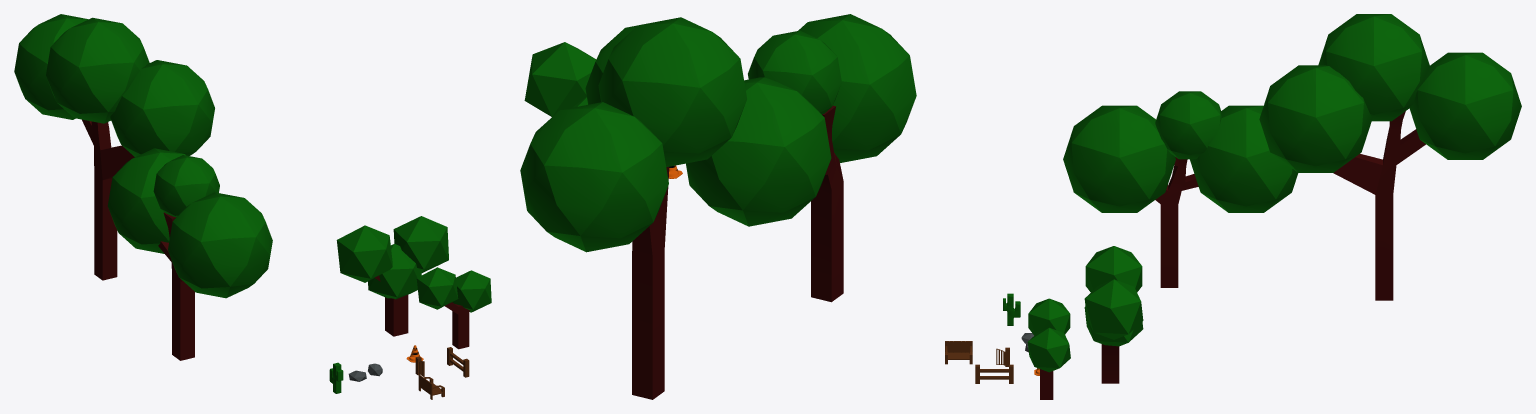
The model's file is objs.fbx.
3 renders of one model, left to right at view 1: azimuth 30°, elevation 25°; view 2: azimuth 150°, elevation 25°; view 3: azimuth 270°, elevation 25°, orthographic. The views are drawn at different scales.
Parts seen in each view (by area): view 1: Arvore_1, Arvore_2, Arbusto_1, Arbusto_2; view 2: Arvore_1, Arvore_2, Arbusto_1; view 3: Arvore_1, Arvore_2, Arbusto_1, Arbusto_2, Cube.003.
Boxes of the visible parts, x1,y1,x2,y2 form: Arvore_1: [14, 14, 214, 280]; Arvore_2: [107, 148, 272, 360]; Arbusto_1: [336, 216, 448, 336]; Arbusto_2: [416, 267, 491, 349]; Arvore_1: [520, 17, 746, 399]; Arvore_2: [686, 14, 916, 302]; Arbusto_1: [524, 42, 596, 116]; Arvore_1: [1259, 14, 1521, 300]; Arvore_2: [1063, 91, 1298, 287]; Arbusto_1: [1084, 246, 1143, 383]; Arbusto_2: [1027, 298, 1070, 399]; Cube.003: [945, 341, 972, 364].
Size of the model in its own units: 1020 by 907 by 1723.
